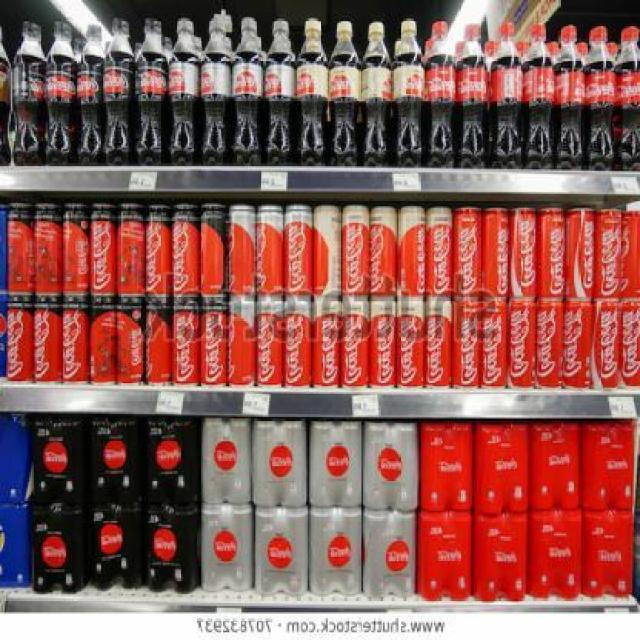Drinks: (84, 503, 144, 591), (143, 504, 200, 595), (363, 419, 420, 510), (85, 415, 143, 504), (474, 421, 530, 513), (142, 417, 200, 505), (392, 19, 426, 168), (489, 22, 523, 170), (295, 19, 329, 167), (251, 419, 308, 507), (420, 420, 474, 512), (32, 413, 86, 505), (473, 514, 529, 602), (418, 512, 474, 600), (362, 510, 418, 598), (308, 420, 364, 508), (12, 21, 46, 165), (527, 510, 581, 599), (30, 504, 84, 593), (254, 506, 308, 595), (309, 507, 363, 596), (581, 421, 635, 510), (425, 20, 457, 169), (231, 17, 263, 166), (264, 18, 296, 166), (200, 18, 232, 166), (168, 17, 200, 165), (135, 18, 167, 166), (103, 19, 135, 167), (360, 21, 392, 167), (328, 20, 360, 166), (199, 506, 253, 592), (530, 420, 581, 511), (523, 25, 555, 169), (456, 23, 488, 167), (581, 510, 633, 598), (555, 25, 586, 171), (45, 21, 76, 165), (201, 419, 252, 505), (586, 25, 615, 171), (75, 24, 103, 166), (615, 26, 639, 172), (226, 204, 257, 295), (88, 201, 117, 297), (284, 295, 313, 391), (256, 295, 285, 391), (227, 294, 256, 390), (199, 294, 228, 390), (313, 296, 342, 390), (117, 295, 146, 387), (453, 205, 482, 297), (117, 203, 146, 295), (60, 296, 89, 387), (88, 296, 117, 387), (565, 208, 594, 299), (199, 203, 228, 294), (536, 300, 565, 391), (509, 206, 537, 300), (61, 202, 89, 296), (34, 202, 62, 296), (7, 202, 35, 296), (396, 296, 424, 390), (341, 296, 369, 390), (537, 207, 565, 299), (481, 207, 509, 299), (172, 202, 200, 294), (564, 299, 592, 391), (369, 298, 397, 390), (593, 209, 621, 300), (425, 207, 453, 298), (398, 206, 426, 297), (369, 206, 397, 297), (342, 206, 370, 297), (313, 206, 341, 297), (285, 204, 313, 295), (257, 204, 285, 295), (508, 299, 536, 390), (479, 299, 507, 390), (452, 298, 480, 389), (425, 298, 453, 389), (173, 293, 199, 389), (146, 205, 172, 297), (146, 296, 172, 387), (593, 299, 619, 390), (8, 296, 34, 387), (34, 295, 60, 386), (619, 298, 639, 390), (620, 211, 638, 299)
